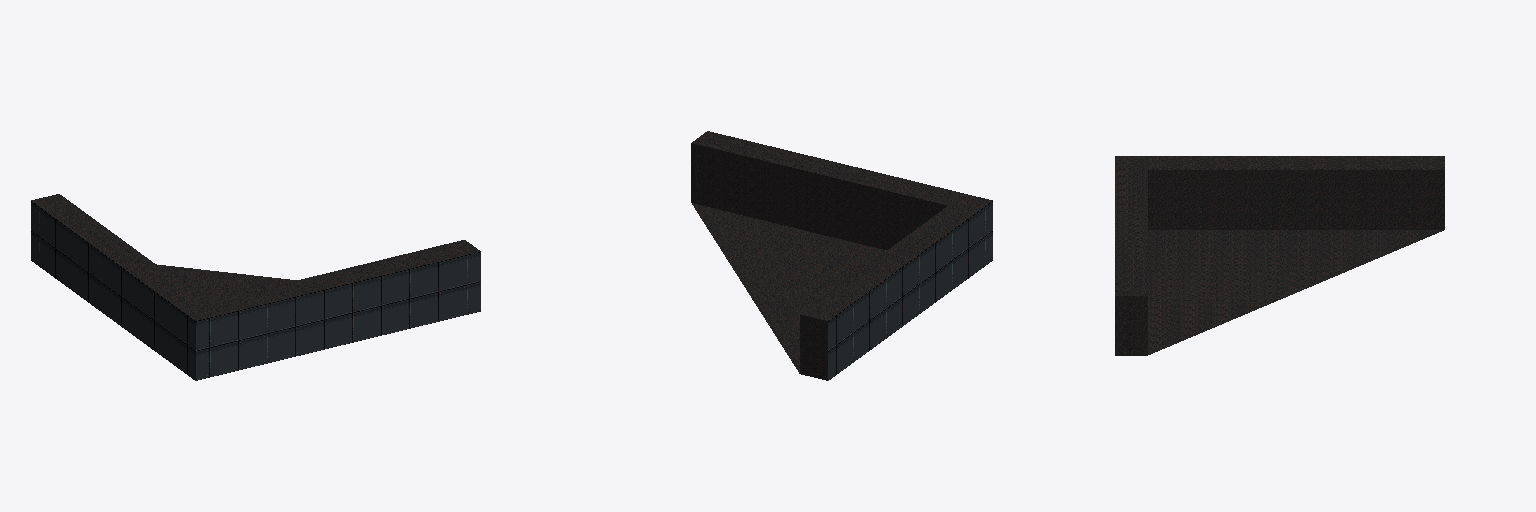
The picture shows the model from 3 angles: view 1: azimuth 30°, elevation 25°; view 2: azimuth 150°, elevation 25°; view 3: azimuth 270°, elevation 25°; orthographic projection.
Parts seen in each view (by area): view 1: WallPanelV 2x10x1; view 2: WallPanelV 2x10x1; view 3: WallPanelV 2x10x1.
Part boxes in pixels (bbox=[...]): WallPanelV 2x10x1: bbox=[31, 194, 480, 380]; WallPanelV 2x10x1: bbox=[691, 131, 992, 380]; WallPanelV 2x10x1: bbox=[1115, 156, 1444, 355].
Bounding box in the file's own units: 10 × 2 × 10.
3 materials, 2 textured.